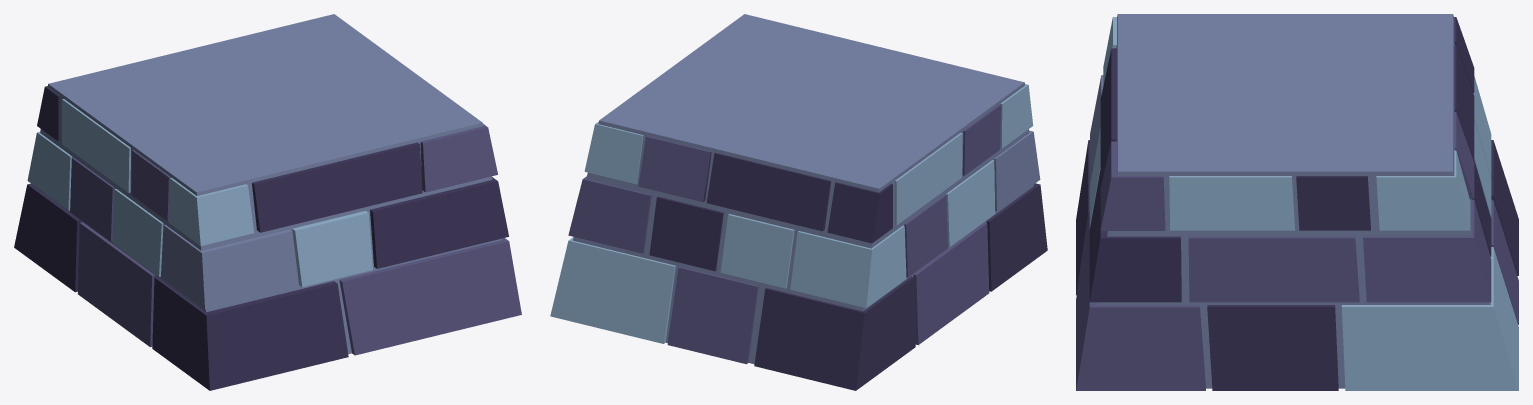
The model's file is BuildingPlatform_03.fbx.
The picture shows the model from 3 angles, left to right: view 1: azimuth 30°, elevation 25°; view 2: azimuth 150°, elevation 25°; view 3: azimuth 270°, elevation 25°; orthographic projection. The views are drawn at different scales.
Visible parts, largest first — view 1: BuildingPlatform_03; view 2: BuildingPlatform_03; view 3: BuildingPlatform_03.
Boxes of the visible parts, x1,y1,x2,y2 form: BuildingPlatform_03: (14, 14, 521, 390); BuildingPlatform_03: (550, 14, 1047, 390); BuildingPlatform_03: (1076, 14, 1518, 390).
Bounding box in the file's own units: 360 × 202 × 391.
